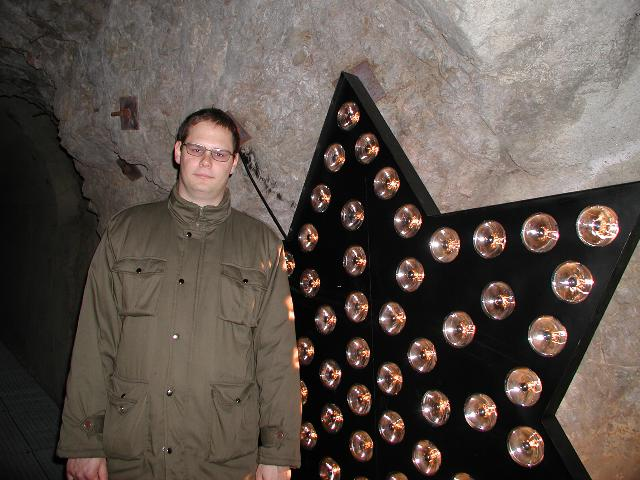Person: (56, 109, 305, 480)
